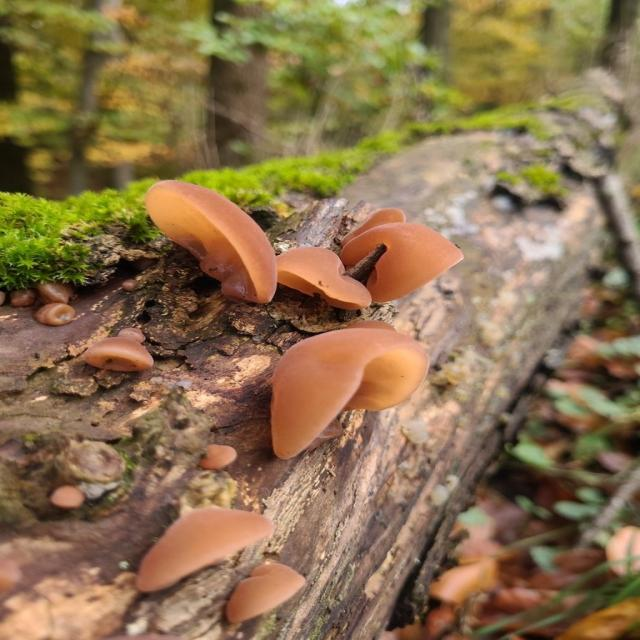Fase Muda: (261, 314, 456, 464), (134, 499, 308, 617), (143, 172, 277, 306), (338, 212, 472, 307), (274, 242, 369, 311)
primordia: (90, 322, 160, 382), (198, 438, 248, 477), (45, 478, 93, 512)
